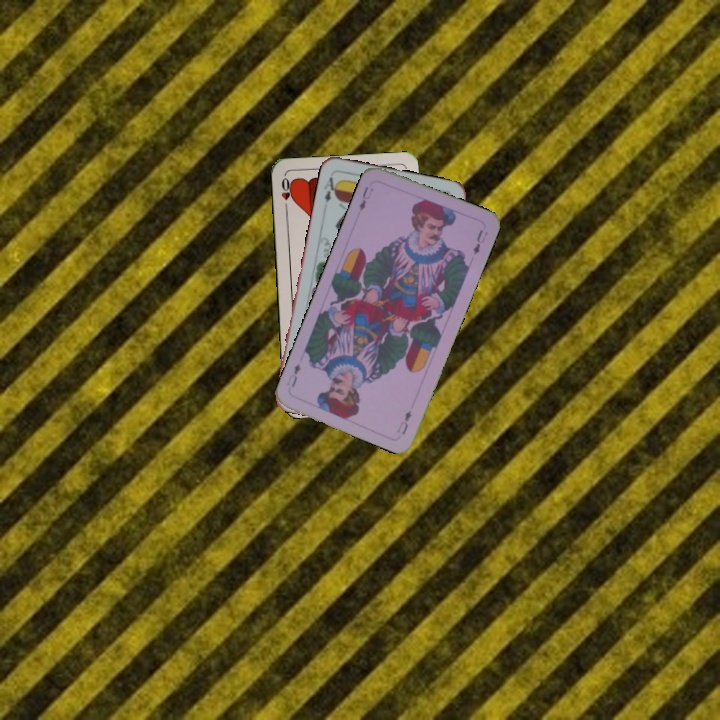EA: (320, 170, 341, 205)
EU: (393, 406, 414, 437), (355, 182, 375, 214)
HO: (277, 174, 295, 213)
